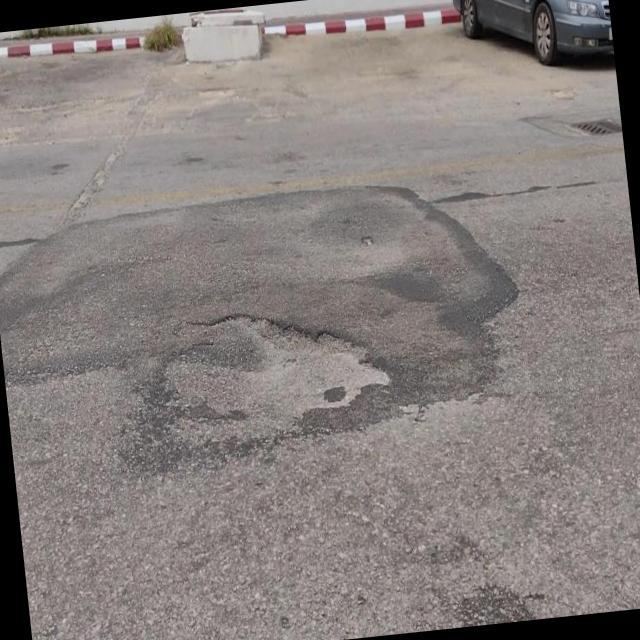Pothole: (173, 313, 391, 424)
